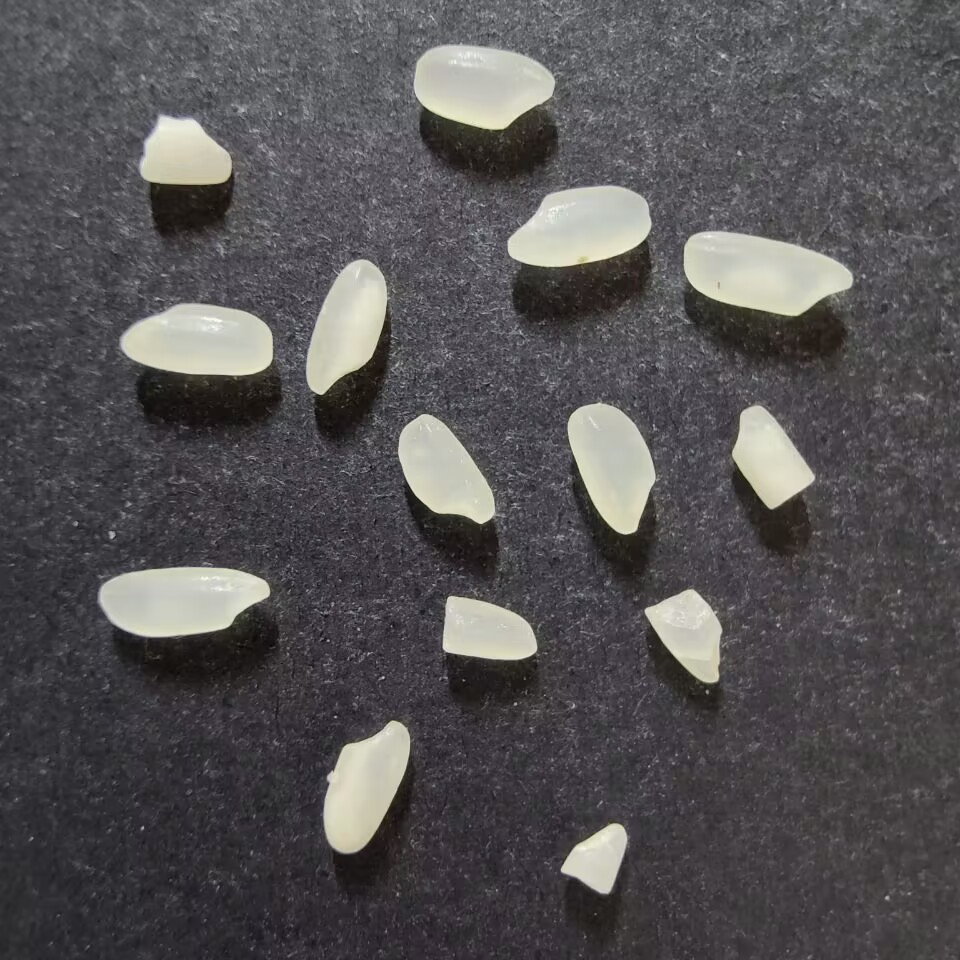broken: (730, 404, 815, 509), (643, 588, 723, 684), (138, 115, 232, 186), (441, 594, 537, 660), (559, 821, 627, 895)
rice: (681, 230, 853, 317), (98, 566, 270, 638), (412, 44, 555, 130), (505, 184, 651, 267), (322, 718, 411, 854), (566, 403, 657, 535), (305, 258, 388, 395), (119, 303, 273, 376), (396, 413, 496, 525)
